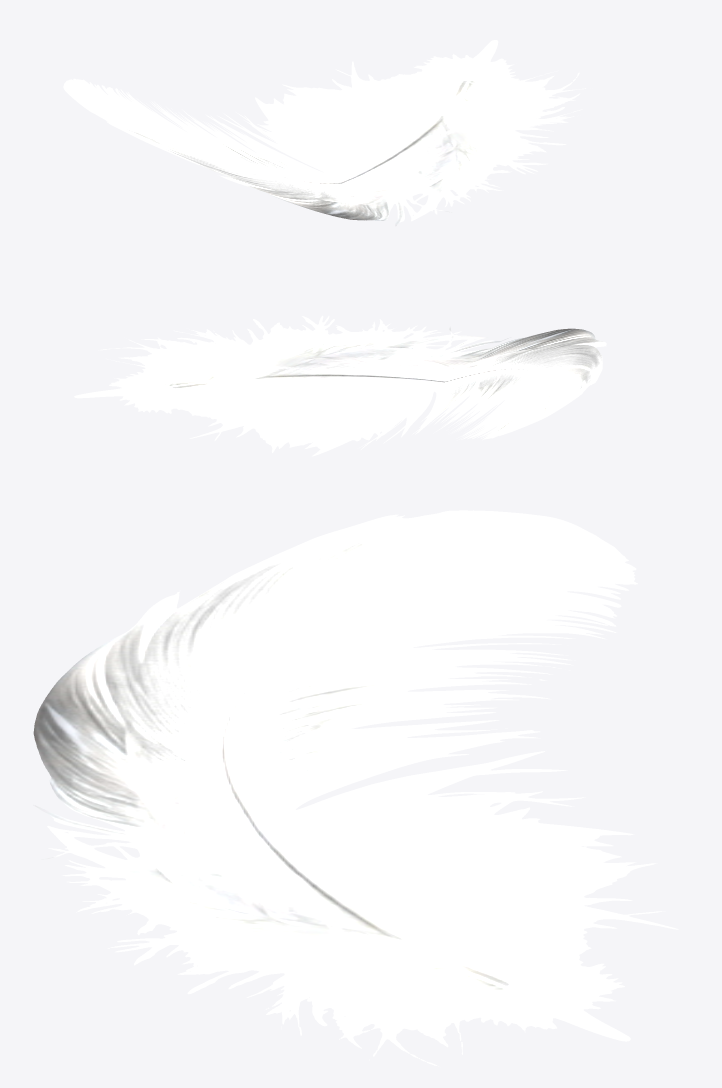
The model's file is featherparticle.glb.
3 renders of one model, top to bottom at view 1: azimuth 30°, elevation 25°; view 2: azimuth 150°, elevation 25°; view 3: azimuth 270°, elevation 25°, orthographic. The views are drawn at different scales.
Visible parts, largest first — view 1: Plane; view 2: Plane; view 3: Plane.
Part boxes in pixels (x1,y1,x2,y2): Plane: (63,40,585,226); Plane: (74,315,606,456); Plane: (33,510,678,1066).
Bounding box in the file's own units: 3.46 × 0.5201 × 2.36.
1 material, 1 textured.
